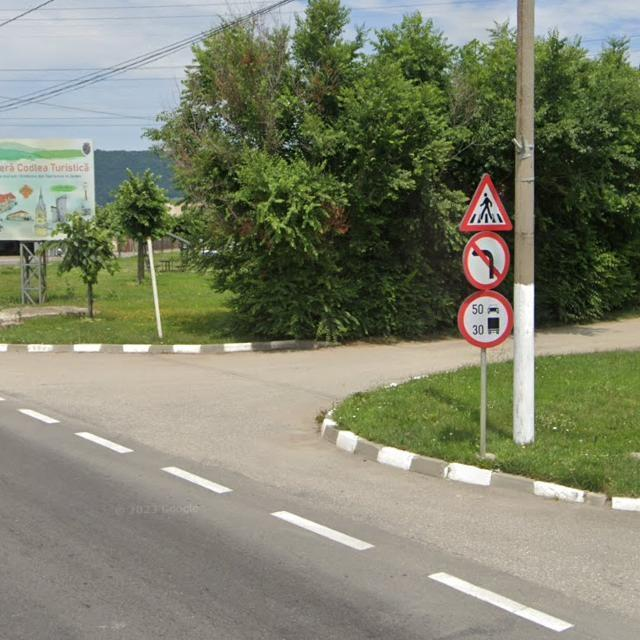warn_crosswalk: (460, 172, 513, 234)
